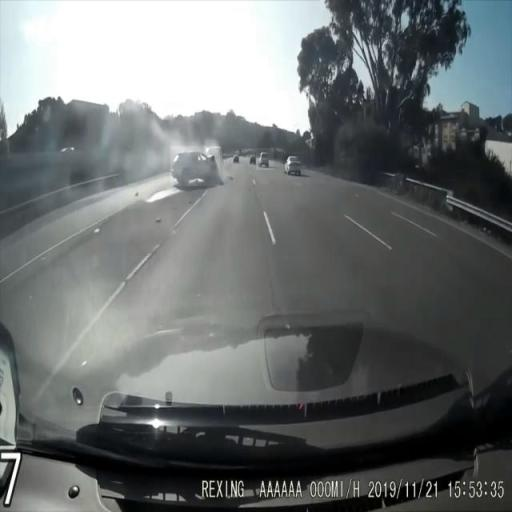小汽车: (170, 146, 220, 186), (283, 154, 306, 176), (256, 148, 274, 170)
